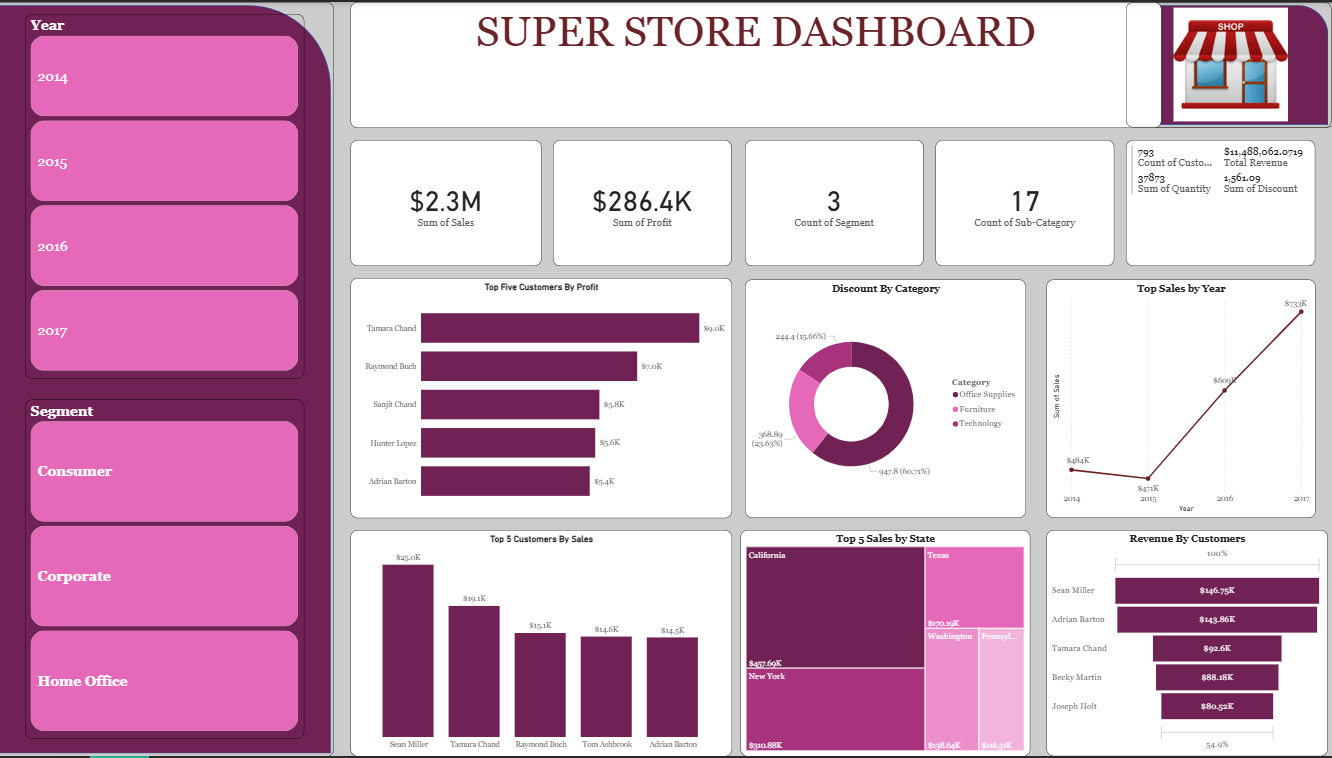

Layout of this report page (visuals, bound fields, positions):
{"tool":"powerbi","page":{"name":"Page 1","canvas":[2560,1440],"ordinal":0},"visuals":[{"type":"shape","box":[0,0,647.4,1441.1],"z":0},{"type":"shape","box":[679.9,0,1870.5,240.7],"z":0,"group":"g1"},{"type":"textbox","box":[678,0,1548.5,240.7],"z":1000,"group":"g1"},{"type":"group","id":"g1","title":"Group 1","box":[678,0,1872.4,240.7],"z":1000},{"type":"card","fields":{"Values":["Sample - Superstore.Sales"]},"box":[679.9,263.5,364.3,240.7],"z":2000},{"type":"card","fields":{"Values":["Sample - Superstore.Profit"]},"box":[1067,263.5,341.6,240.7],"z":3000},{"type":"card","fields":{"Values":["Sample - Superstore.Segment"]},"box":[1431.4,263.5,341.6,240.7],"z":4000},{"type":"card","fields":{"Values":["Sample - Superstore.Sub-Category"]},"box":[1795.7,263.5,341.6,240.7],"z":5000},{"type":"multiRowCard","fields":{"Values":["Sample - Superstore.Customer Name","Sample - Superstore.Total Revenue","Sample - Superstore.Quantity","Sample - Superstore.Discount"]},"box":[2160.1,263.5,361.1,240.7],"z":6000},{"type":"clusteredBarChart","title":"Top Five Customers By Profit","fields":{"Category":["Sample - Superstore.Customer Name"],"Y":["Sample - Superstore.Profit"]},"box":[679.9,527,728.7,458.7],"z":7000},{"type":"donutChart","title":"Discount By Category","fields":{"Category":["Sample - Superstore.Category"],"Y":["Sample - Superstore.Discount"]},"box":[1432.1,531.5,543.6,454.4],"z":8000},{"type":"columnChart","title":"Top 5 Customers By Sales","fields":{"Category":["Sample - Superstore.Customer Name"],"Y":["Sample - Superstore.Sales"]},"box":[679.9,1008.5,728.7,432.7],"z":9000},{"type":"lineChart","title":"Top Sales by Year","fields":{"Category":["Sample - Superstore.Order Date.Variation.Date Hierarchy.Year"],"Y":["Sample - Superstore.Sales"]},"box":[2007.2,530.3,514,455.4],"z":10000},{"type":"treemap","title":"Top 5 Sales by State","fields":{"Group":["Sample - Superstore.State"],"Values":["Sample - Superstore.Sales"]},"box":[1424.9,1008.5,553,432.7],"z":11000},{"type":"funnel","title":"Revenue By Customers","fields":{"Category":["Sample - Superstore.Customer Name"],"Y":["Sample - Superstore.Total Revenue"]},"box":[2007,1008,537,432],"z":12000},{"type":"advancedSlicerVisual","fields":{"Values":["Sample - Superstore.Segment"]},"box":[58.6,758,533.5,647.4],"z":13000},{"type":"advancedSlicerVisual","fields":{"Values":["Sample - Superstore.Order Date.Variation.Date Hierarchy.Year"]},"box":[58.6,22.8,533.5,696.2],"z":14000},{"type":"image","box":[2159.9,0,400.1,239.4],"z":15000}]}

Visuals, with their boxes in screenshot pixels (x1, y1, x2, y2), scaled from the page's 2560x1440 canvas onto the 1332x758 screenshot:
shape: 0/0/337/757
shape: 354/0/1327/127
textbox: 353/0/1158/127
"Group 1" group: 353/0/1327/127
card - Sample - Superstore.Sales: 354/139/543/265
card - Sample - Superstore.Profit: 555/139/733/265
card - Sample - Superstore.Segment: 745/139/923/265
card - Sample - Superstore.Sub-Category: 934/139/1112/265
multiRowCard - Sample - Superstore.Customer Name x Sample - Superstore.Total Revenue: 1124/139/1312/265
"Top Five Customers By Profit" clusteredBarChart: 354/277/733/519
"Discount By Category" donutChart: 745/280/1028/519
"Top 5 Customers By Sales" columnChart: 354/531/733/757
"Top Sales by Year" lineChart: 1044/279/1312/519
"Top 5 Sales by State" treemap: 741/531/1029/757
"Revenue By Customers" funnel: 1044/531/1324/757
advancedSlicerVisual - Sample - Superstore.Segment: 30/399/308/740
advancedSlicerVisual - Sample - Superstore.Order Date.Variation.Date Hierarchy.Year: 30/12/308/378
image: 1124/0/1331/126
